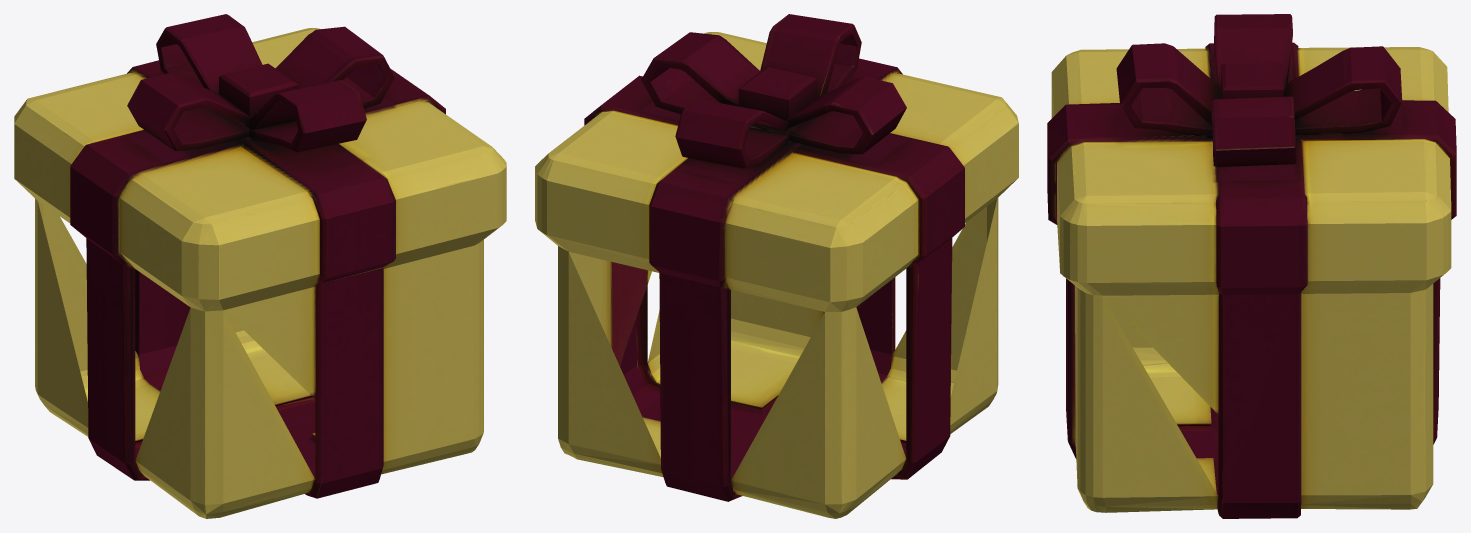
Rendered from box-gold.glb.
3 renders of one model, left to right at view 1: azimuth 30°, elevation 25°; view 2: azimuth 150°, elevation 25°; view 3: azimuth 270°, elevation 25°, orthographic. The views are drawn at different scales.
Parts seen in each view (by area): view 1: tripo_mesh_04723f0b-9123-4142-9776-4c2079606298; view 2: tripo_mesh_04723f0b-9123-4142-9776-4c2079606298; view 3: tripo_mesh_04723f0b-9123-4142-9776-4c2079606298.
Part boxes in pixels (box(x1,y1,x2,y2)): tripo_mesh_04723f0b-9123-4142-9776-4c2079606298: box(14, 14, 506, 518); tripo_mesh_04723f0b-9123-4142-9776-4c2079606298: box(535, 14, 1018, 518); tripo_mesh_04723f0b-9123-4142-9776-4c2079606298: box(1047, 14, 1456, 518).
Bounding box in the file's own units: 1 × 1.06 × 0.9959.
1 material, 1 textured.
